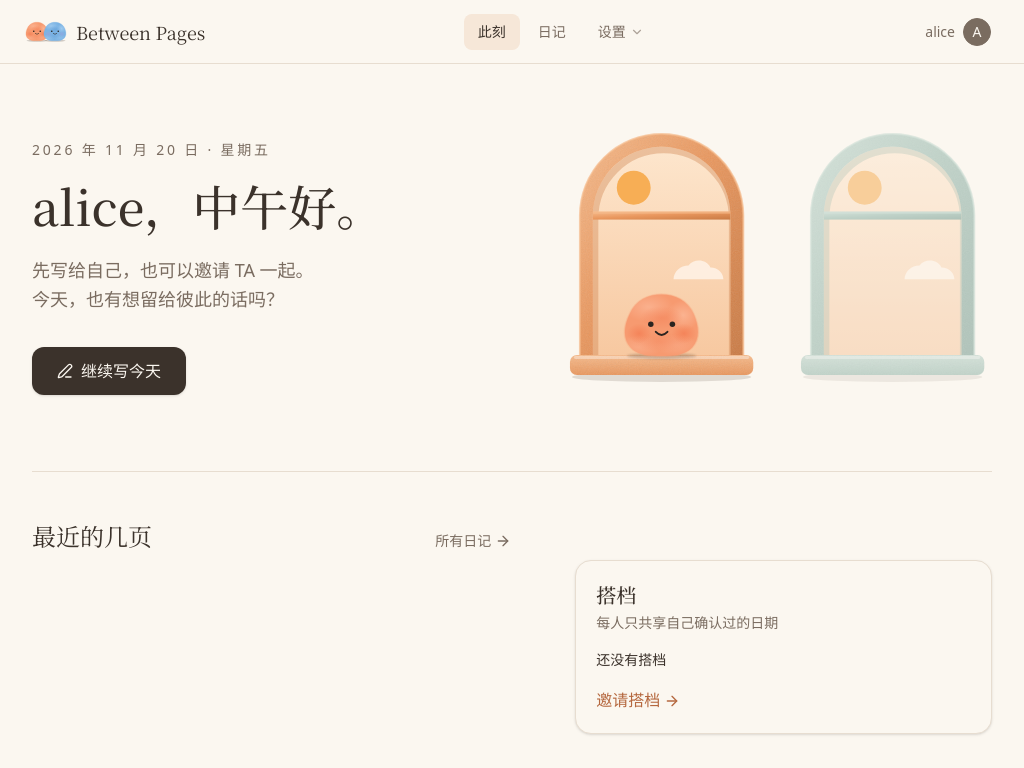
PartnerCard › shows one line of state on the home and leads to 设置 → 搭档, never the range editor
The image size is (1024, 768).
Expected: the text "还没有搭档" is shown, x1=596 y1=650 x2=666 y2=669
Expected: the text "或者生成邀请链接" is not shown
Click the link "邀请搭档": (638, 700) x1=596 y1=688 x2=680 y2=713
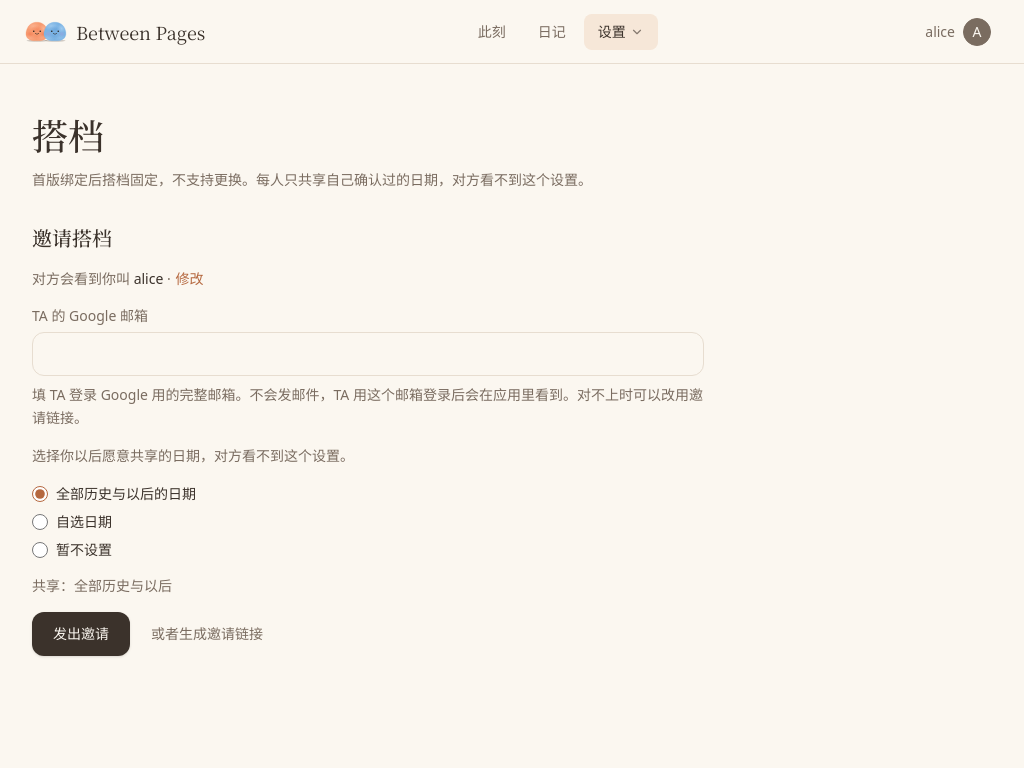
Expected: the heading "搭档" is shown, x1=32 y1=112 x2=104 y2=157
Result: the button "或者生成邀请链接" is shown at x1=150 y1=623 x2=264 y2=645
